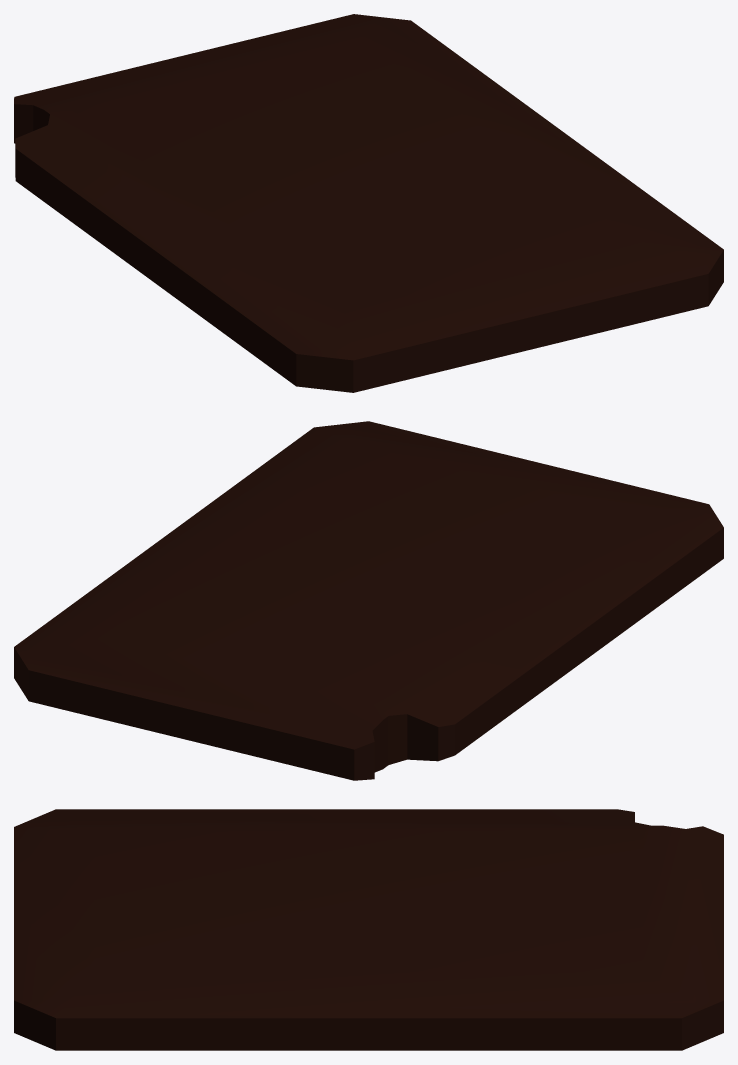
File: ElevatorPad.fbx
3 renders of one model, top to bottom at view 1: azimuth 30°, elevation 25°; view 2: azimuth 150°, elevation 25°; view 3: azimuth 270°, elevation 25°, orthographic. The views are drawn at different scales.
Visible parts, largest first — view 1: Box095; view 2: Box095; view 3: Box095.
Part boxes in pixels (x1,y1,x2,y2): Box095: (14,14,723,392); Box095: (14,421,723,780); Box095: (14,809,723,1050).
Size of the model in its own units: 241 by 30.31 by 346.
